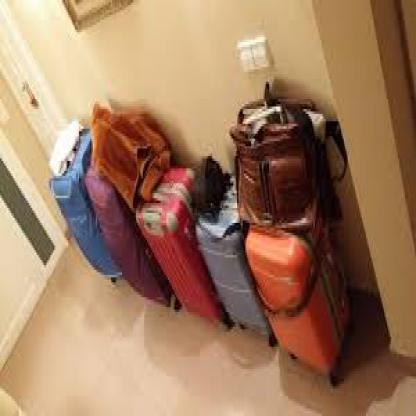maleta: (229, 82, 351, 240), (246, 220, 354, 396), (138, 159, 221, 354), (89, 161, 177, 327), (200, 176, 269, 369), (50, 114, 115, 304), (88, 101, 180, 218)
